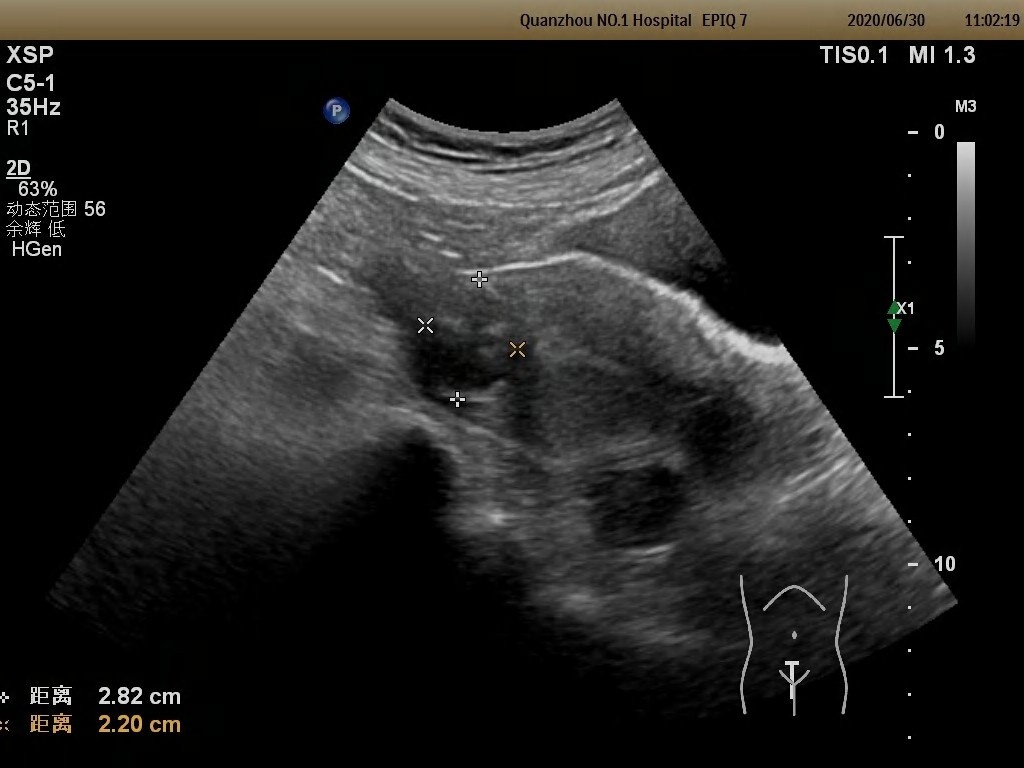肌瘤: (426, 280, 519, 400)
